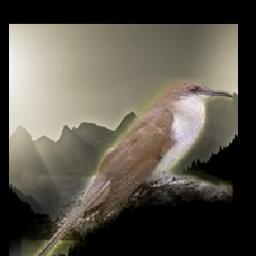Cuckoo: (21, 78, 233, 256)
